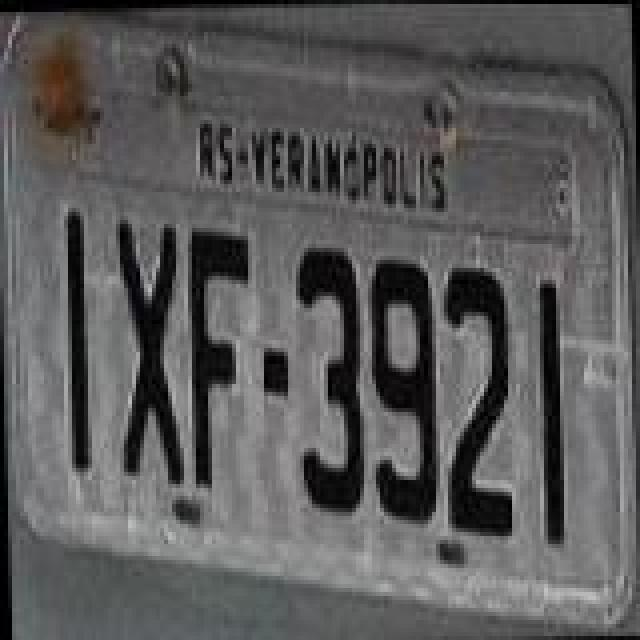1: (56, 198, 88, 474), (532, 274, 564, 550)
2: (432, 256, 516, 552)
3: (292, 240, 368, 516)
9: (362, 252, 442, 532)
F: (182, 222, 254, 494)
X: (106, 210, 182, 490)
